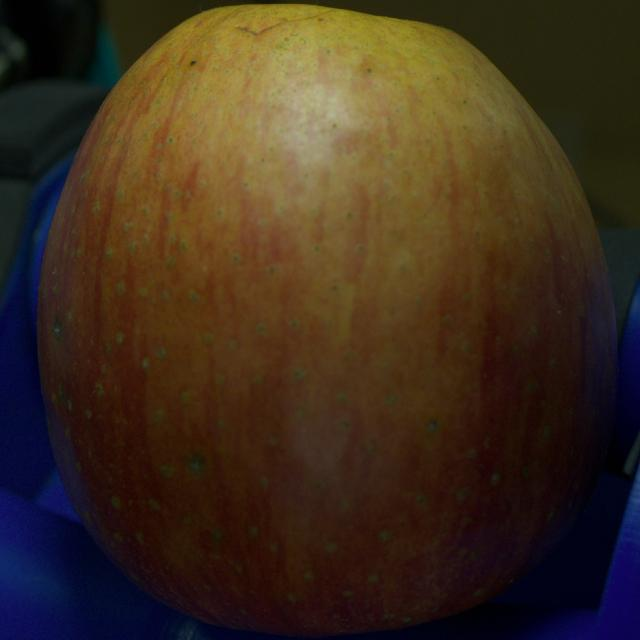apple: (37, 4, 616, 636)
pest: (189, 454, 205, 474), (52, 318, 61, 340), (428, 421, 436, 432), (190, 60, 196, 65)
scratch: (238, 10, 331, 34)
